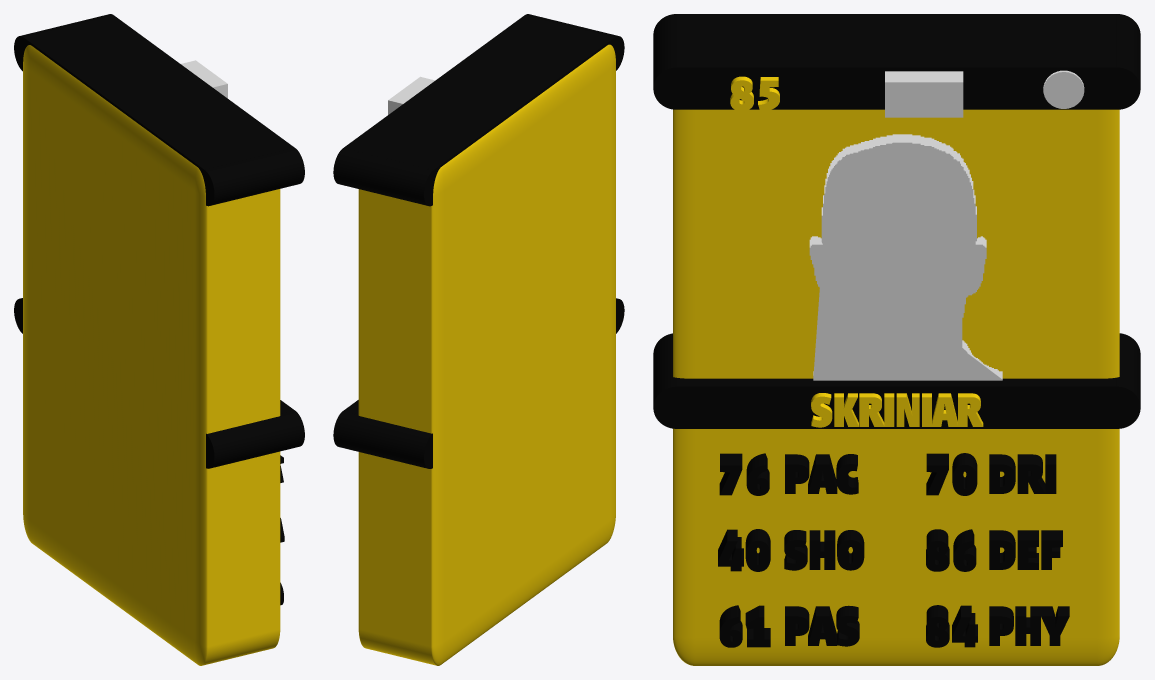
The model's file is SKRINIAR.fbx.
3 views of the same model, side by side, from view 1: azimuth 30°, elevation 25°; view 2: azimuth 150°, elevation 25°; view 3: azimuth 270°, elevation 25° (orthographic). The views are drawn at different scales.
Visible parts, largest first — view 1: Куб, Цилиндр.002, Цилиндр.001, Куб.001; view 2: Куб, Цилиндр.002, Цилиндр.001, Куб.001; view 3: Куб, Цилиндр.002, Плоскость, Цилиндр.001, Текст.006, Куб.001, Текст, Текст.002, Текст.005, Текст.004, Текст.001, Текст.003 (+8 smaller).
Part boxes in pixels (x1,y1,x2,y2): Куб: [23, 45, 280, 665]; Цилиндр.002: [14, 14, 304, 206]; Цилиндр.001: [14, 298, 304, 468]; Куб.001: [181, 60, 227, 98]; Куб: [358, 44, 615, 665]; Цилиндр.002: [333, 14, 624, 206]; Цилиндр.001: [333, 298, 624, 468]; Куб.001: [388, 76, 435, 114]; Куб: [673, 109, 1119, 665]; Цилиндр.002: [653, 14, 1140, 109]; Плоскость: [809, 134, 1002, 380]; Цилиндр.001: [653, 333, 1140, 428]; Текст.006: [811, 393, 983, 427]; Куб.001: [885, 71, 963, 117]; Текст: [784, 530, 864, 570]; Текст.002: [785, 605, 859, 646]; Текст.005: [989, 606, 1069, 645]; Текст.004: [989, 530, 1062, 569]; Текст.001: [785, 454, 858, 494]; Текст.003: [989, 454, 1056, 493].
Bounding box in the file's own units: 280 × 1202 × 872.
